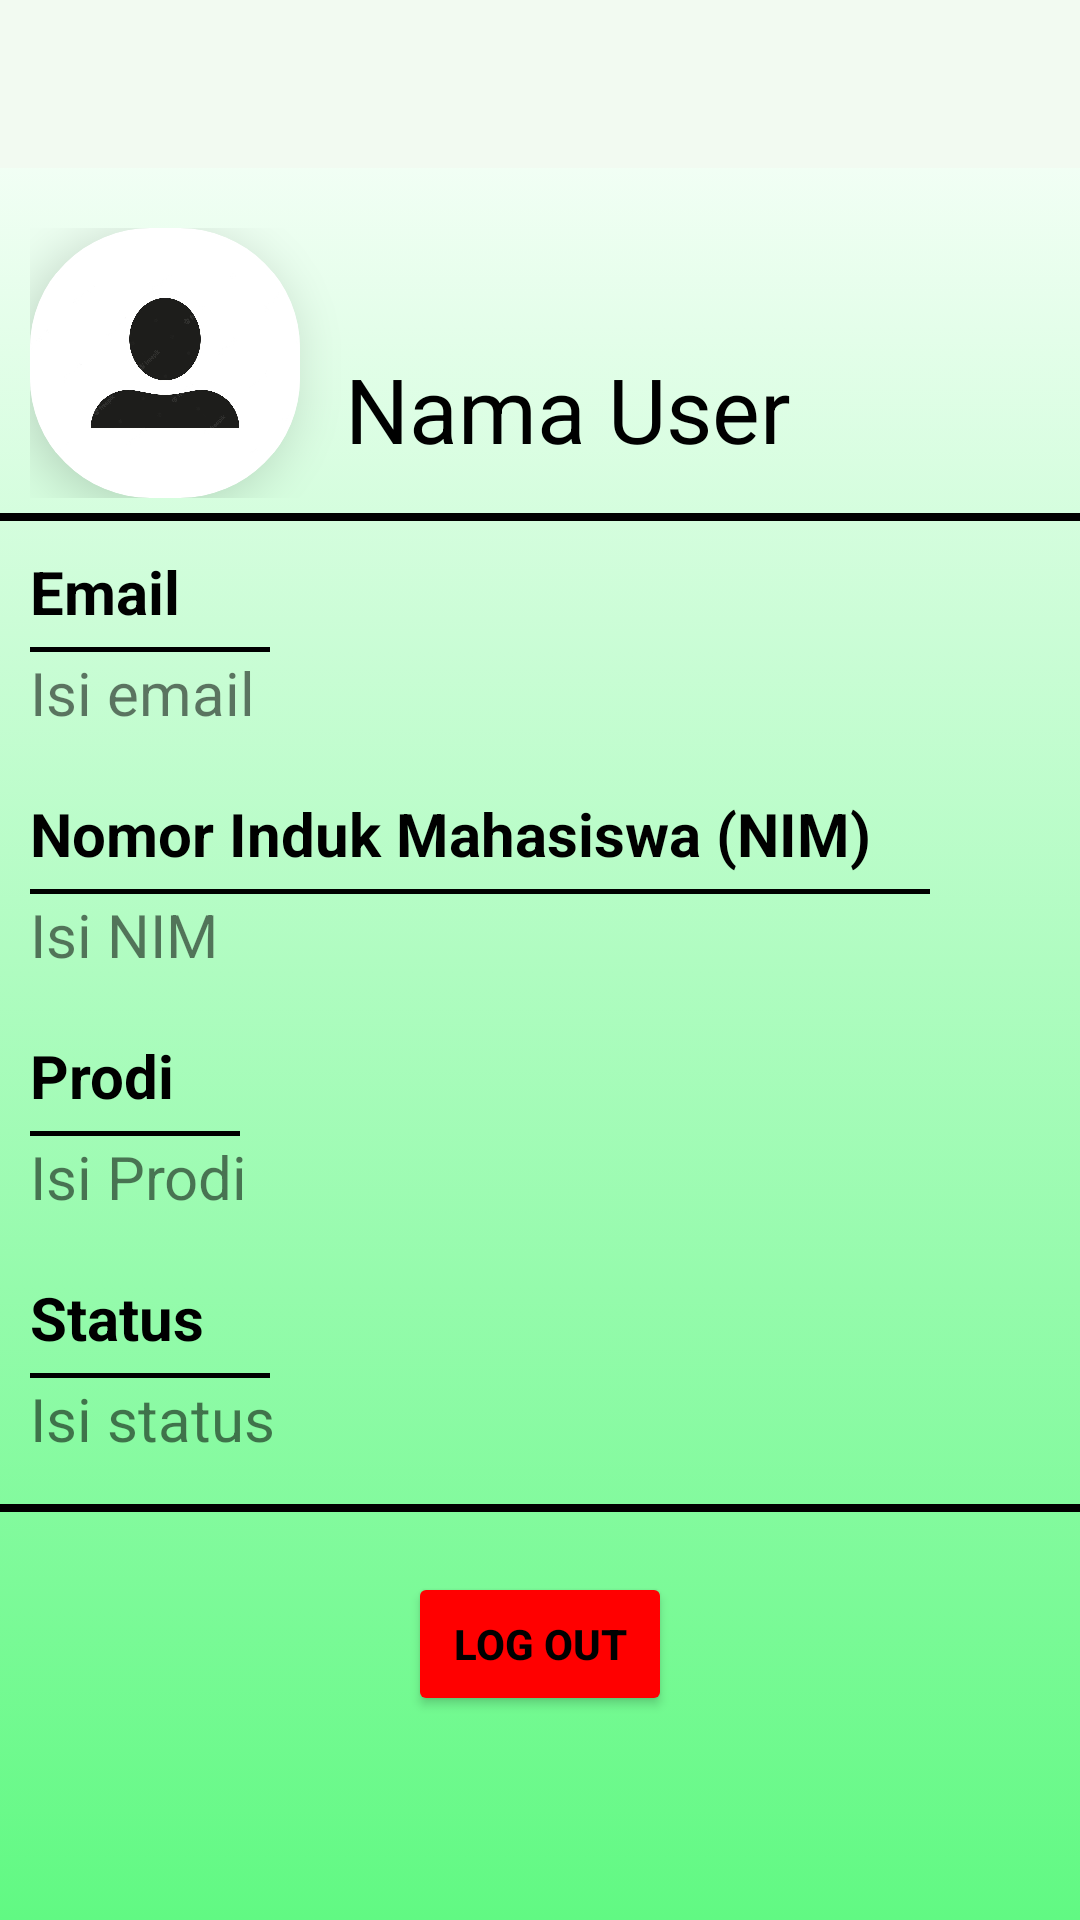

Where icons sit on this 1080×1920 app screen, as (x1, y1, x2, y2):
userprofile: (30, 228, 300, 498)
